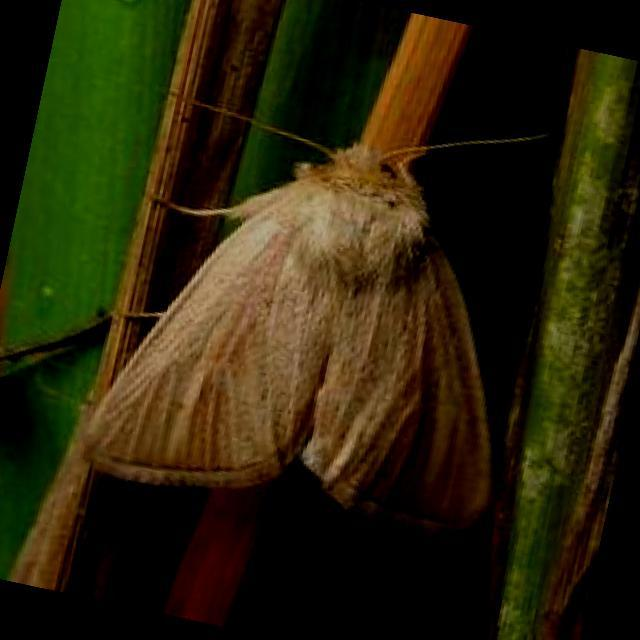stem borer: (86, 118, 522, 528)
